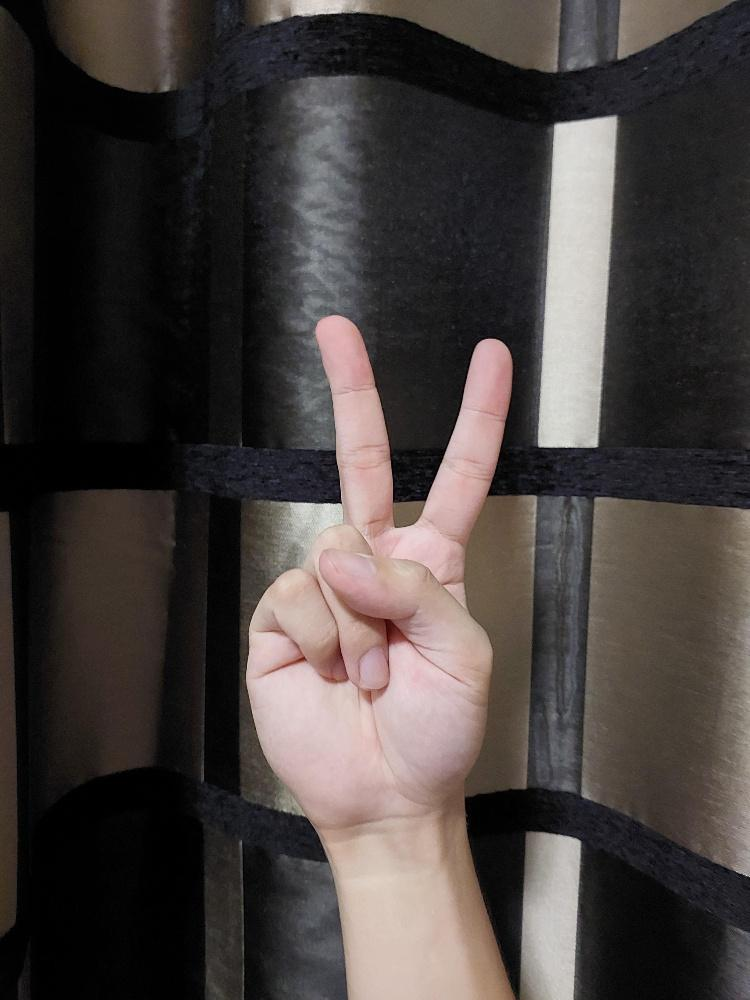v: (243, 311, 515, 827)
